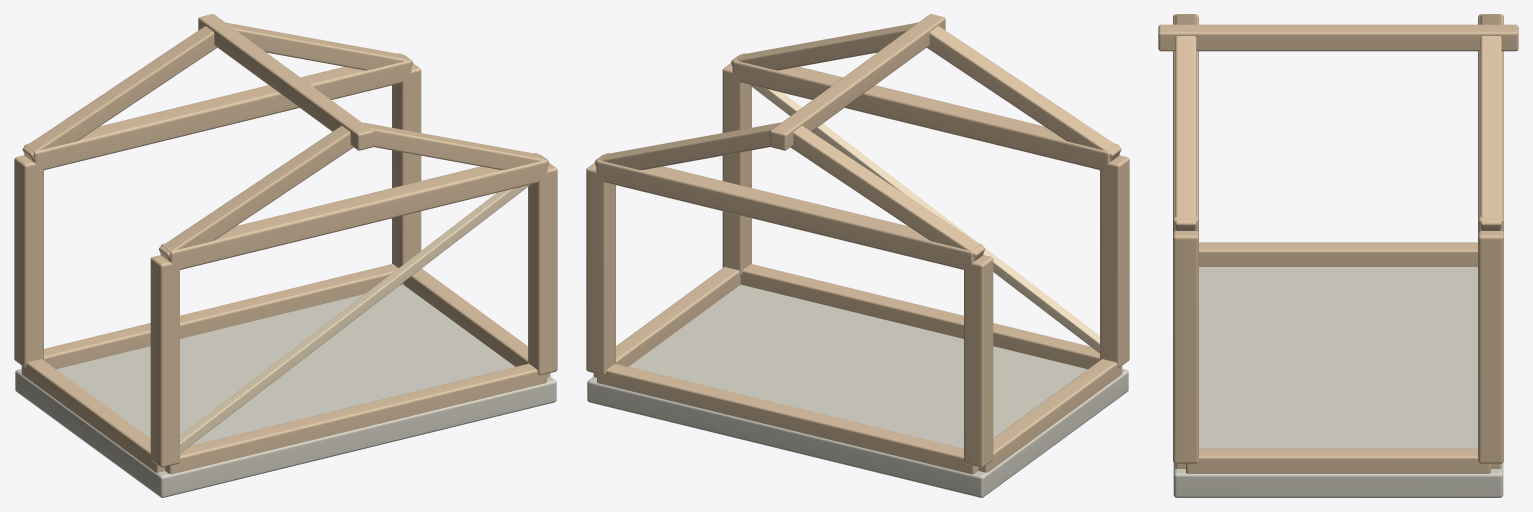
The model's file is shelter-frame.glb.
3 renders of one model, left to right at view 1: azimuth 30°, elevation 25°; view 2: azimuth 150°, elevation 25°; view 3: azimuth 270°, elevation 25°, orthographic. The views are drawn at different scales.
Parts seen in each view (by area): view 1: Rounded stone footing.001, Eave beam, Eave beam.001, Sill beam.004, Sill beam.005, Temporary brace, Corner post, Corner post.001, Corner post.002, Gable rafter, Gable rafter.002, Ridge beam (+5 smaller); view 2: Rounded stone footing.001, Eave beam.001, Eave beam, Sill beam.005, Sill beam.004, Corner post.001, Corner post, Corner post.003, Gable rafter.002, Gable rafter, Ridge beam, Corner post.002 (+5 smaller); view 3: Rounded stone footing.001, Ridge beam, Sill beam.007, Sill beam.006, Corner post.002, Corner post.003, Gable rafter.001, Gable rafter.003, Eave beam, Eave beam.001.
Part boxes in pixels (x1=…): Rounded stone footing.001: x1=15, y1=284, x2=556, y2=497; Eave beam: x1=160, y1=153, x2=547, y2=269; Eave beam.001: x1=24, y1=53, x2=411, y2=170; Sill beam.004: x1=165, y1=363, x2=546, y2=474; Sill beam.005: x1=44, y1=264, x2=403, y2=369; Temporary brace: x1=180, y1=184, x2=530, y2=453; Corner post: x1=150, y1=255, x2=179, y2=467; Corner post.001: x1=14, y1=155, x2=43, y2=367; Corner post.002: x1=528, y1=163, x2=557, y2=375; Gable rafter: x1=159, y1=125, x2=353, y2=260; Gable rafter.002: x1=22, y1=26, x2=217, y2=161; Ridge beam: x1=198, y1=14, x2=373, y2=150; Rounded stone footing.001: x1=587, y1=284, x2=1128, y2=497; Eave beam.001: x1=596, y1=153, x2=983, y2=269; Eave beam: x1=732, y1=53, x2=1119, y2=170; Sill beam.005: x1=597, y1=363, x2=978, y2=474; Sill beam.004: x1=740, y1=264, x2=1099, y2=369; Corner post.001: x1=964, y1=255, x2=993, y2=467; Corner post: x1=1100, y1=155, x2=1129, y2=367; Corner post.003: x1=586, y1=163, x2=615, y2=375; Gable rafter.002: x1=790, y1=125, x2=984, y2=260; Gable rafter: x1=926, y1=26, x2=1121, y2=161; Ridge beam: x1=770, y1=14, x2=945, y2=150; Corner post.002: x1=722, y1=63, x2=751, y2=275; Rounded stone footing.001: x1=1173, y1=267, x2=1503, y2=497; Ridge beam: x1=1158, y1=24, x2=1518, y2=51; Sill beam.007: x1=1186, y1=448, x2=1490, y2=473; Sill beam.006: x1=1199, y1=242, x2=1477, y2=266; Corner post.002: x1=1173, y1=231, x2=1198, y2=463; Corner post.003: x1=1478, y1=231, x2=1503, y2=463; Gable rafter.001: x1=1175, y1=36, x2=1196, y2=230; Gable rafter.003: x1=1480, y1=36, x2=1501, y2=230; Eave beam: x1=1173, y1=14, x2=1198, y2=232; Eave beam.001: x1=1478, y1=14, x2=1503, y2=232.
Bounding box in the file's own units: 3.37 × 2.62 × 2.36.
